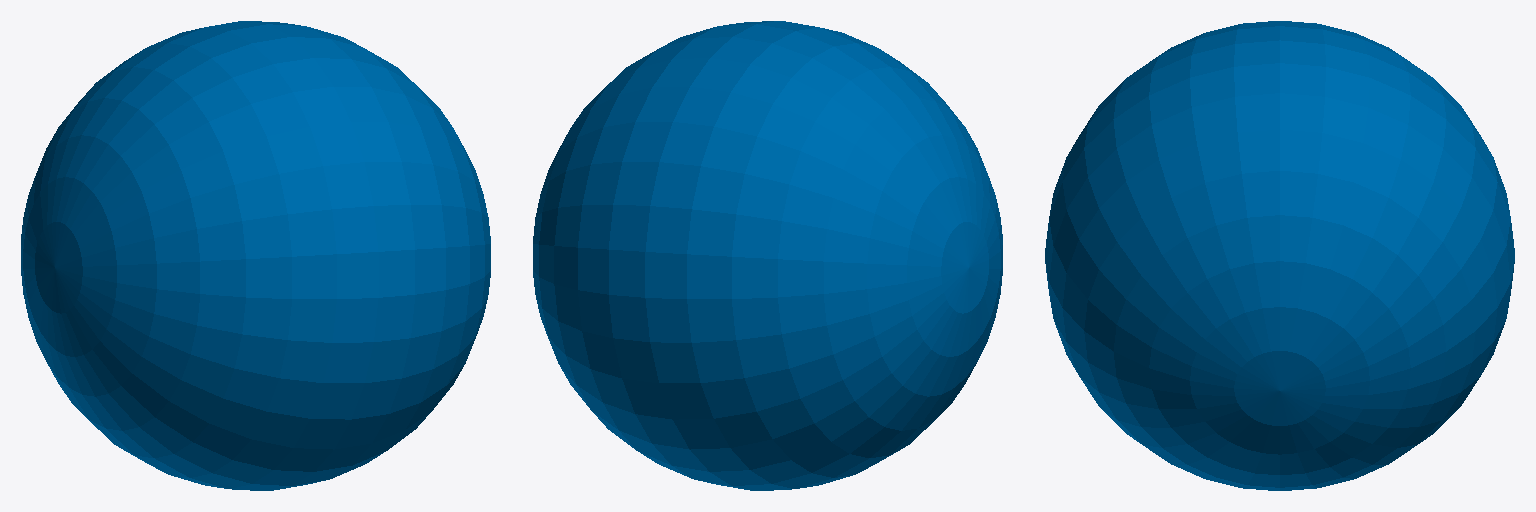
The robot description file, URDF, robot "hyq":
<?xml version="1.0" encoding="utf-8"?>
<robot name="hyq">
  <link name="base_link">
    <inertial>
      <origin xyz="0.0560691331299813 0.021493682967627666 0.0036081141592049586" rpy="0.0 0.0 0.0"/>
      <mass value="60.978"/>
      <inertia ixx="1.5727651692862368" ixy="0.02846518720991833" ixz="-0.20354038112779044" iyy="8.502743030521936" iyz="-0.004425323842294127" izz="9.196486342929056"/>
    </inertial>
  </link>

  <link name="lf_hipassembly">
    <inertial>
      <origin xyz="0.04263 0.0 0.16931" rpy="0.0 0.0 0.0"/>
      <mass value="2.93"/>
      <inertia ixx="0.050710000000000005" ixy="-4.0e-5" ixz="-0.0015900000000000011" iyy="0.054860000000000006" iyz="-5.0e-5" izz="0.00571"/>
    </inertial>
  </link>

  <link name="lf_upperleg">
    <inertial>
      <origin xyz="0.15074 -0.026249999999999996 0.0" rpy="0.0 0.0 0.0"/>
      <mass value="2.638"/>
      <inertia ixx="0.0036799999999999997" ixy="-0.00302" ixz="0.0001" iyy="0.02719" iyz="2.0e-5" izz="0.028109999999999996"/>
    </inertial>
  </link>

  <link name="lf_lowerleg">
    <inertial>
      <origin xyz="0.1254 4.0e-5 -0.0001" rpy="0.0 0.0 0.0"/>
      <mass value="0.881"/>
      <inertia ixx="0.00047" ixy="6.0e-5" ixz="-1.0e-5" iyy="0.01256" iyz="0.0" izz="0.012329999999999999"/>
    </inertial>
  </link>

   <!-- Foot link -->
   <link name="foot">
   	<collision>
   		<origin xyz="0 0 0" rpy="0 0 0"/>
   		<geometry>
   			<sphere radius="0.02175"/>
   		</geometry>
   	</collision>
   	<visual>
   		<geometry>
   			<sphere radius="0.02175" />
   		</geometry>
   		<material name="black" />
   	</visual>
   </link>

  <joint name="lf_haa_joint" type="revolute">
    <parent link="base_link"/>
    <child link="lf_hipassembly"/>
    <origin xyz="0.3735 0.207 0.0" rpy="0 1.57079632679 -3.1415926535895866"/>
    <axis xyz="0.0 0.0 1.0"/>
    <limit lower="-1.2217304764" upper="0.436332312999" effort="150.0" velocity="12.0"/>
  </joint>

  <joint name="lf_hfe_joint" type="revolute">
    <parent link="lf_hipassembly"/>
    <child link="lf_upperleg"/>
    <origin xyz="0.08 0.0 0.0" rpy="1.57079632679 0.0 0.0"/>
    <axis xyz="0.0 0.0 1.0"/>
    <limit lower="-0.872664625997" upper="1.2217304764" effort="150.0" velocity="12.0"/>
  </joint>

  <joint name="lf_kfe_joint" type="revolute">
    <parent link="lf_upperleg"/>
    <child link="lf_lowerleg"/>
    <origin xyz="0.35 0.0 0.0" rpy="0.0 0.0 0.0"/>
    <axis xyz="0.0 0.0 1.0"/>
    <limit lower="-2.44346095279" upper="-0.349065850399" effort="150.0" velocity="12.0"/>
  </joint>

   <!-- Foot joint -->
   <joint name="foot_joint" type="revolute">
   	<origin xyz="0.341 0 0" rpy="1.57079632679 0 -1.57079632679"/>
   	<parent link="lf_lowerleg"/>
   	<child  link="foot"/>
   </joint>

</robot>

--- What the picture shows (computed from the rendered views, not written in the file) ---
Views: 3 orthographic renders of the robot side by side, from view 1: azimuth 30°, elevation 25°; view 2: azimuth 150°, elevation 25°; view 3: azimuth 270°, elevation 25°.
Model hyq with 5 links and 4 joints (4 revolute), rooted at base_link, posed all joints at 0 but 1 set to mid-range because 0 is outside their limits (lf_kfe_joint = -1.4).
Visible links, largest first — view 1: foot; view 2: foot; view 3: foot.
Boxes of the visible links, <box> form: foot: <box>21,21,490,490</box>; foot: <box>533,21,1002,490</box>; foot: <box>1045,21,1514,490</box>.
Size in the robot's own frame: 0.0435 by 0.0435 by 0.0435 metres.
Geometry: primitives only (box / cylinder / sphere), no mesh files.